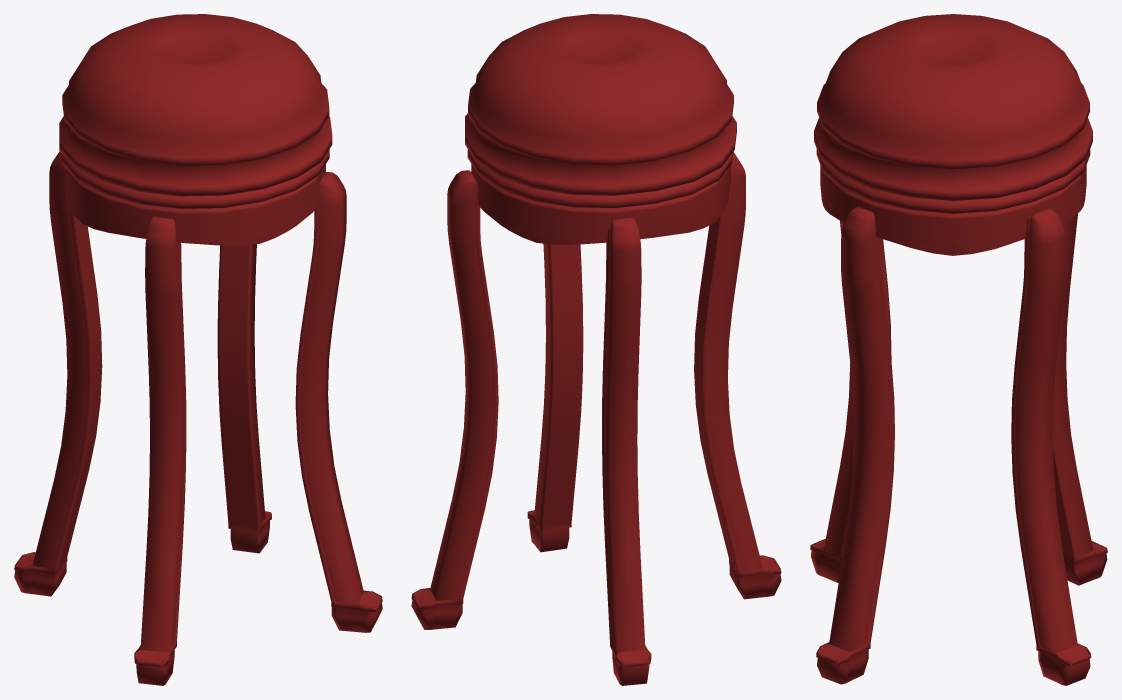
File: Stool.fbx
3 renders of one model, left to right at view 1: azimuth 30°, elevation 25°; view 2: azimuth 150°, elevation 25°; view 3: azimuth 270°, elevation 25°, orthographic. The views are drawn at different scales.
Visible parts, largest first — view 1: Stool2, Stool_leg8, Stool_leg19, Stool_leg21, Stool_leg20; view 2: Stool2, Stool_leg21, Stool_leg20, Stool_leg8, Stool_leg19; view 3: Stool2, Stool_leg20, Stool_leg19, Stool_leg21, Stool_leg8.
Boxes of the visible parts, x1,y1,x2,y2 form: Stool2: [59, 14, 332, 245]; Stool_leg8: [134, 216, 186, 685]; Stool_leg19: [295, 172, 382, 632]; Stool_leg21: [14, 151, 102, 596]; Stool_leg20: [217, 244, 271, 553]; Stool2: [465, 14, 736, 244]; Stool_leg21: [602, 217, 651, 685]; Stool_leg20: [411, 170, 498, 629]; Stool_leg8: [694, 152, 781, 599]; Stool_leg19: [527, 243, 583, 552]; Stool2: [814, 14, 1092, 255]; Stool_leg20: [1011, 208, 1091, 685]; Stool_leg19: [816, 206, 894, 684]; Stool_leg21: [1052, 214, 1107, 585]; Stool_leg8: [810, 221, 891, 582].
Size of the model in its own units: 3.93 by 8.41 by 3.93.
